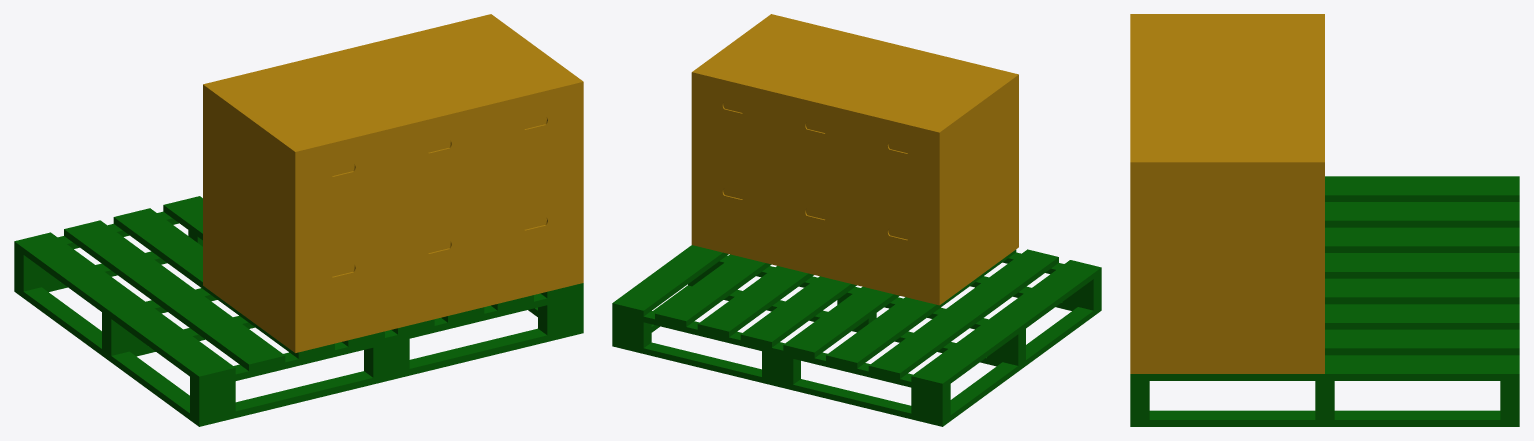
The model's file is SmallPallet.dae.
3 views of the same model, side by side, from view 1: azimuth 30°, elevation 25°; view 2: azimuth 150°, elevation 25°; view 3: azimuth 270°, elevation 25° (orthographic). The views are drawn at different scales.
Visible parts, largest first — view 1: 组件_4 (×6), group_7, group_8, group_5, group_17, group_3, group_6, group_4, group_14, group_15, group_9, group_19 (+1 smaller); view 2: 组件_4 (×6), group_8, group_7, group_16, group_3, group_2, group_10, group_1, group_9, group_0, group_17, group_23 (+7 smaller); view 3: 组件_4 (×4), group_1, group_22, group_0, group_2, group_3, group_7, group_8, group_9, group_10, group_11, group_15 (+1 smaller).
Boxes of the visible parts, x1,y1,x2,y2 form: 组件_4 (×6): [203, 14, 583, 352]; group_7: [64, 220, 285, 370]; group_8: [14, 232, 235, 383]; group_5: [217, 328, 565, 422]; group_17: [14, 285, 217, 426]; group_3: [113, 208, 334, 358]; group_6: [190, 289, 583, 389]; group_4: [190, 381, 235, 420]; group_14: [364, 339, 409, 377]; group_15: [538, 296, 583, 335]; group_9: [163, 196, 384, 346]; group_19: [14, 255, 59, 291]; 组件_4 (×6): [691, 14, 1018, 305]; group_8: [911, 260, 1101, 389]; group_7: [868, 249, 1058, 378]; group_16: [628, 342, 926, 422]; group_3: [826, 249, 1016, 368]; group_2: [740, 276, 856, 347]; group_10: [697, 266, 813, 337]; group_1: [612, 245, 728, 316]; group_9: [783, 287, 899, 358]; group_0: [655, 255, 771, 326]; group_17: [927, 305, 1101, 426]; group_23: [612, 309, 950, 395]; 组件_4 (×4): [1130, 14, 1324, 373]; group_1: [1130, 355, 1519, 380]; group_22: [1130, 410, 1519, 426]; group_0: [1325, 329, 1519, 355]; group_2: [1325, 278, 1519, 304]; group_3: [1325, 227, 1519, 252]; group_7: [1325, 202, 1519, 227]; group_8: [1325, 176, 1519, 201]; group_9: [1325, 253, 1519, 278]; group_10: [1325, 304, 1519, 329]; group_11: [1315, 388, 1334, 419]; group_15: [1130, 388, 1149, 419].
Bounding box in the file's own units: 47.24 × 39.37 × 29.53.
